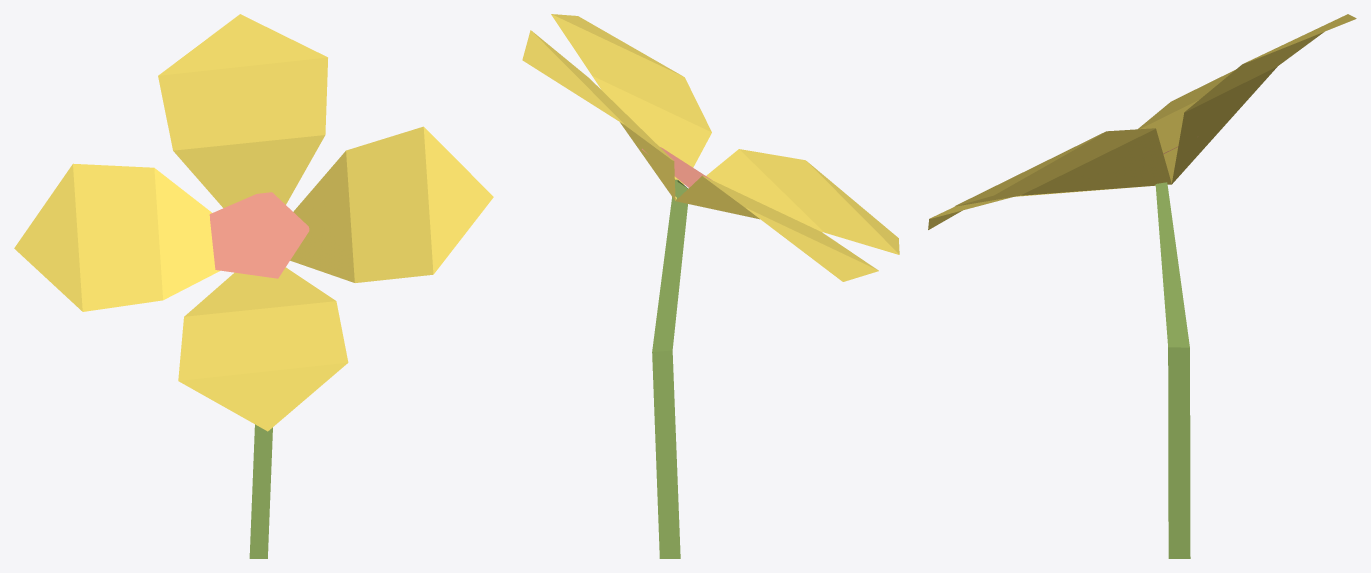
Rendered from Flower_d_TwoS_03.fbx.
The picture shows the model from 3 angles, left to right: view 1: azimuth 30°, elevation 25°; view 2: azimuth 150°, elevation 25°; view 3: azimuth 270°, elevation 25°; orthographic projection. The views are drawn at different scales.
Parts seen in each view (by area): view 1: Flower_d_TwoS_03; view 2: Flower_d_TwoS_03; view 3: Flower_d_TwoS_03.
Boxes of the visible parts, x1,y1,x2,y2 form: Flower_d_TwoS_03: (14,14,493,558); Flower_d_TwoS_03: (522,14,899,558); Flower_d_TwoS_03: (928,14,1356,558).
Size of the model in its own units: 21.83 by 27.84 by 18.97.
